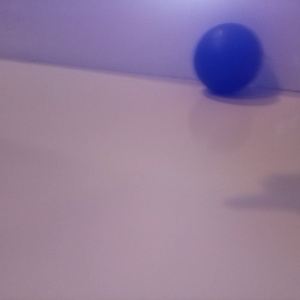dead_ball: (194, 23, 261, 93)
